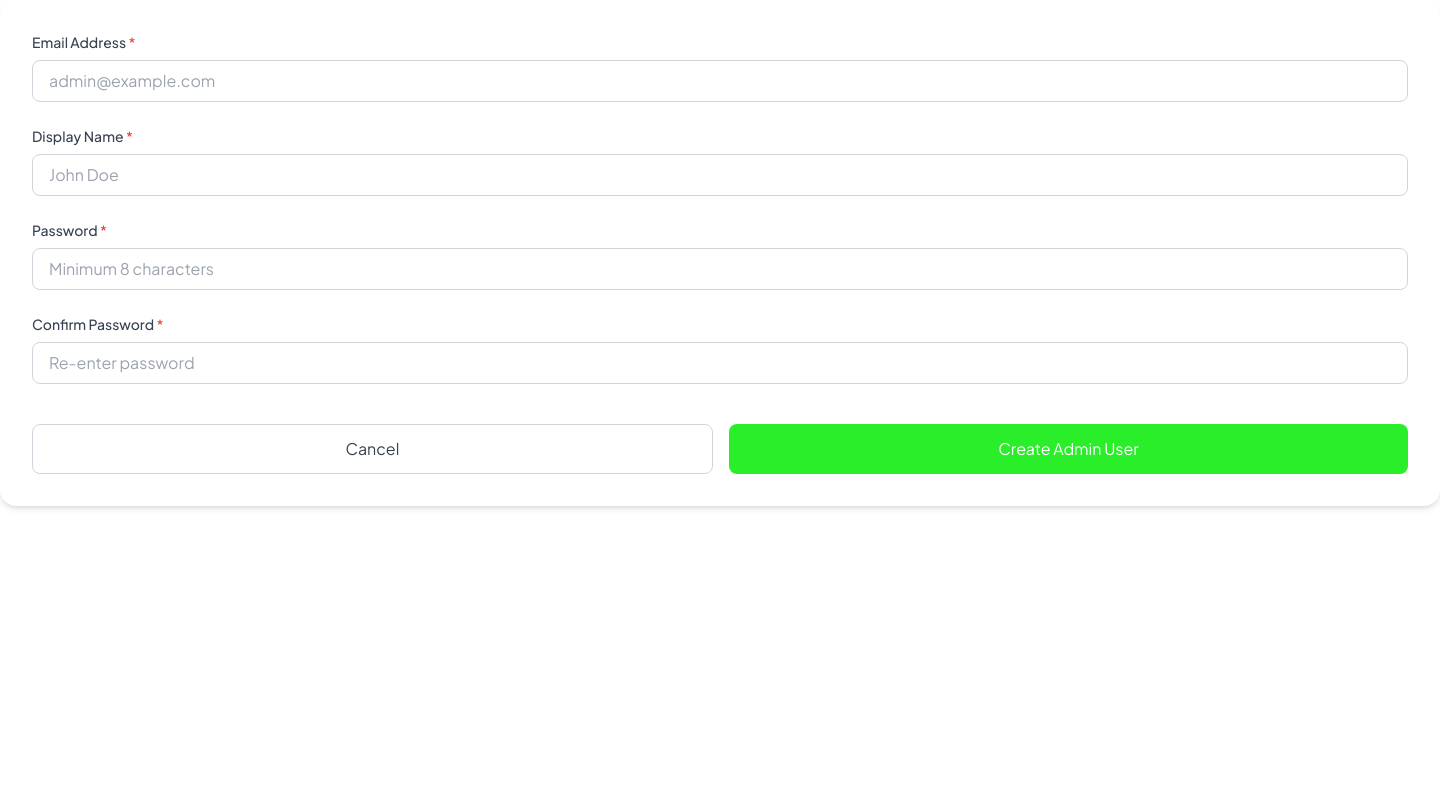
Scenario: UserForm › UserForm_Should_ValidateEmail_When_Submitted › should show error when email is empty
Step 1. Click the button "Create Admin User" → [1068, 449], box [729, 424, 1408, 474]
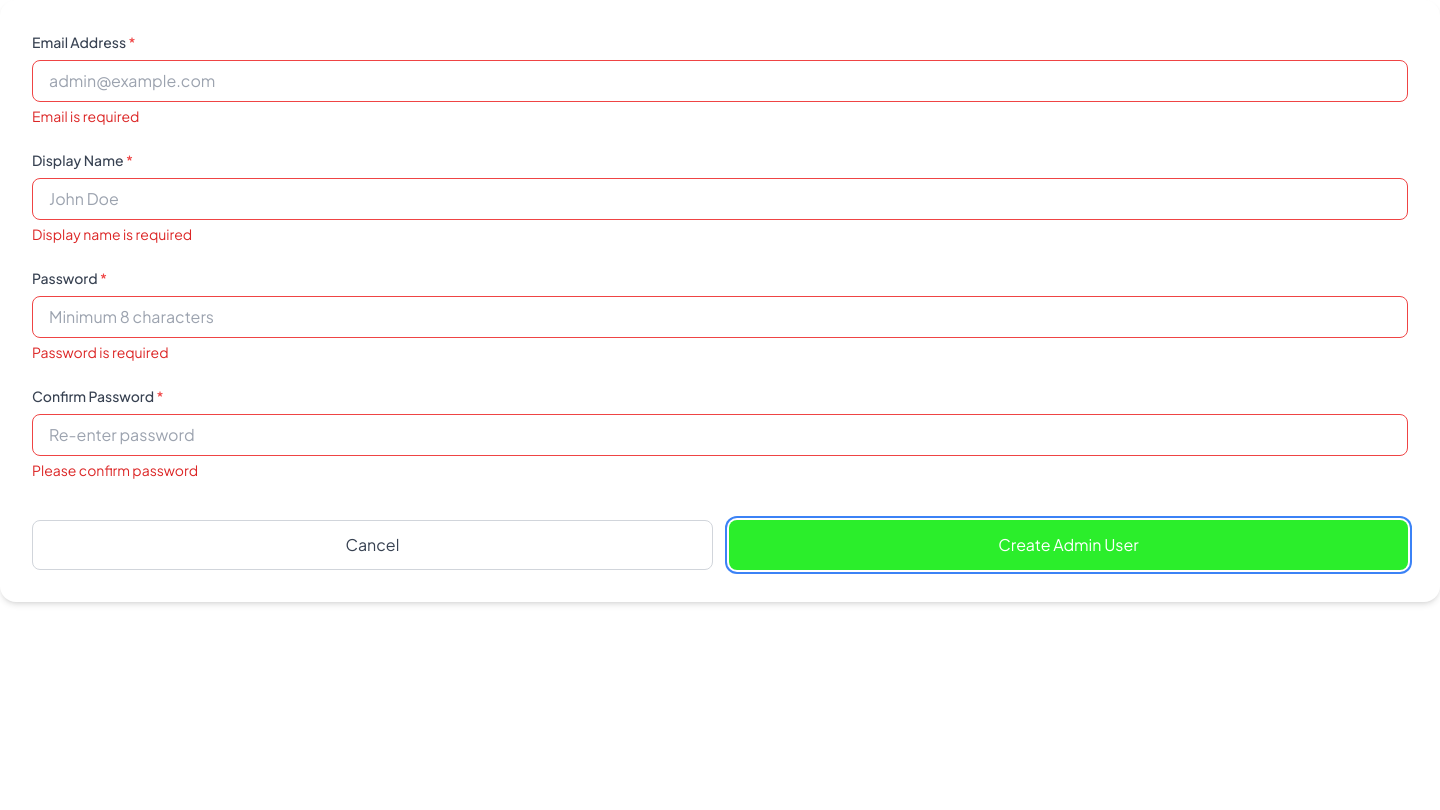
Check: the text "Email is required" is shown, box [32, 107, 139, 125]
